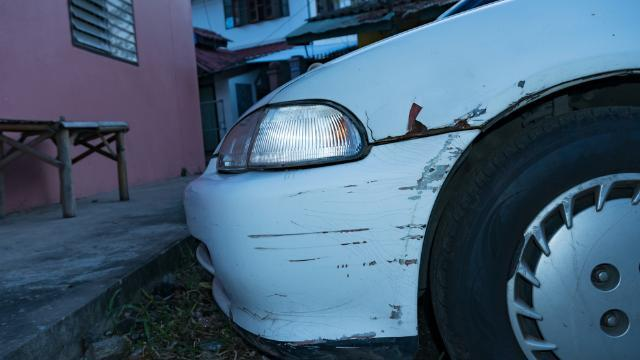crack: (366, 110, 376, 141)
scratch: (242, 133, 469, 342)
